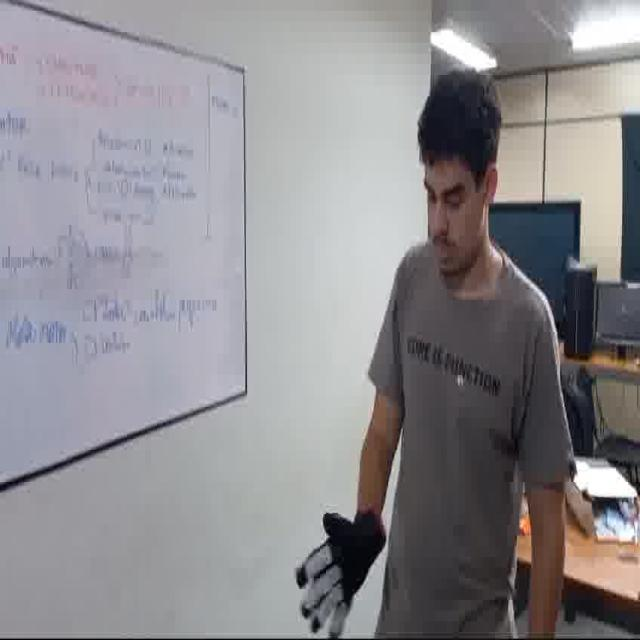Gloves: (296, 501, 388, 640)
